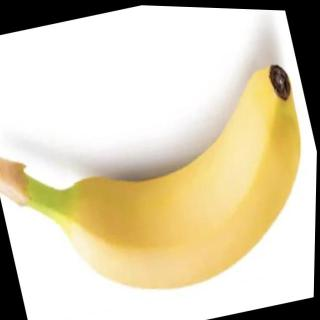banana: (36, 48, 319, 318)
